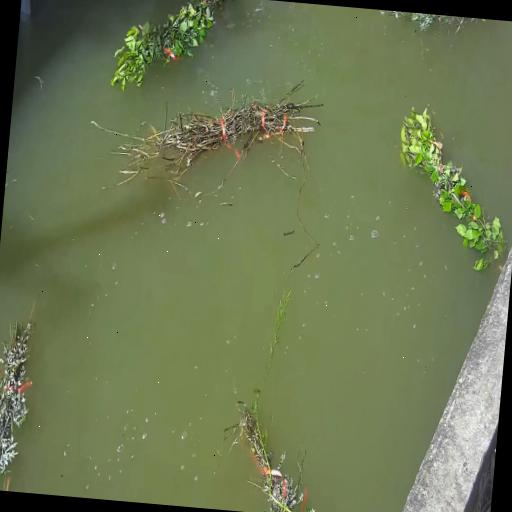twig: (105, 82, 322, 183), (225, 291, 316, 512), (400, 108, 504, 259), (111, 0, 226, 85), (0, 318, 32, 476)
